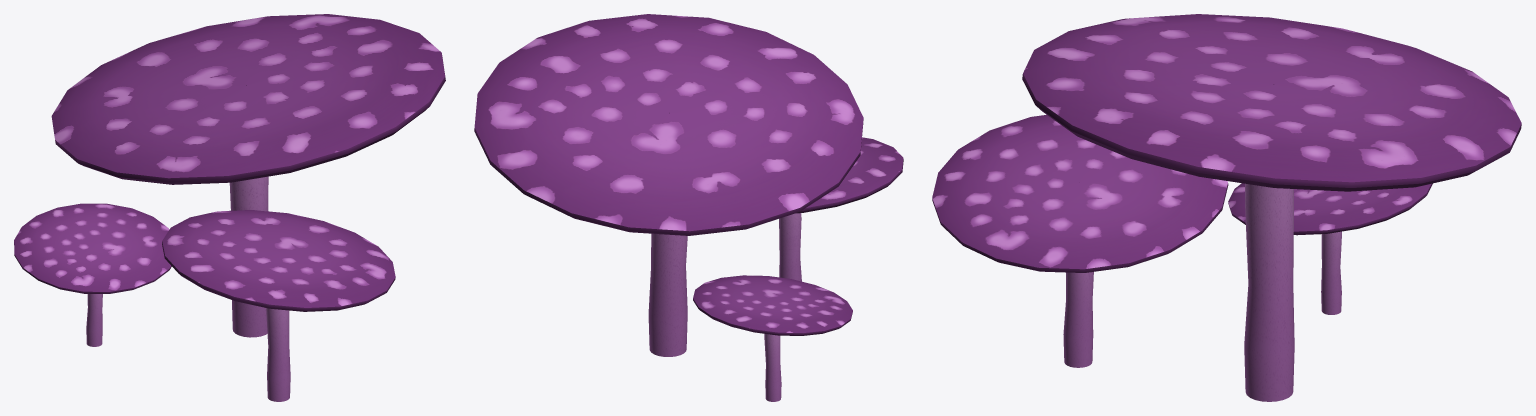
Rendered from MushroomModel_Triplet.fbx.
3 renders of one model, left to right at view 1: azimuth 30°, elevation 25°; view 2: azimuth 150°, elevation 25°; view 3: azimuth 270°, elevation 25°, orthographic. The views are drawn at different scales.
Parts seen in each view (by area): view 1: pCylinder4, pCylinder5, pCylinder6; view 2: pCylinder4, pCylinder6, pCylinder5; view 3: pCylinder4, pCylinder5, pCylinder6.
Boxes of the visible parts, x1,y1,x2,y2 form: pCylinder4: [51, 14, 445, 337]; pCylinder5: [162, 210, 395, 401]; pCylinder6: [14, 203, 171, 346]; pCylinder4: [474, 14, 863, 356]; pCylinder6: [693, 275, 852, 401]; pCylinder5: [779, 137, 903, 281]; pCylinder4: [1022, 14, 1521, 401]; pCylinder5: [932, 114, 1228, 367]; pCylinder6: [1228, 183, 1432, 314].
Size of the model in its own units: 3.87 by 2.61 by 4.22.
Materials: 1 (1 with a texture image).
